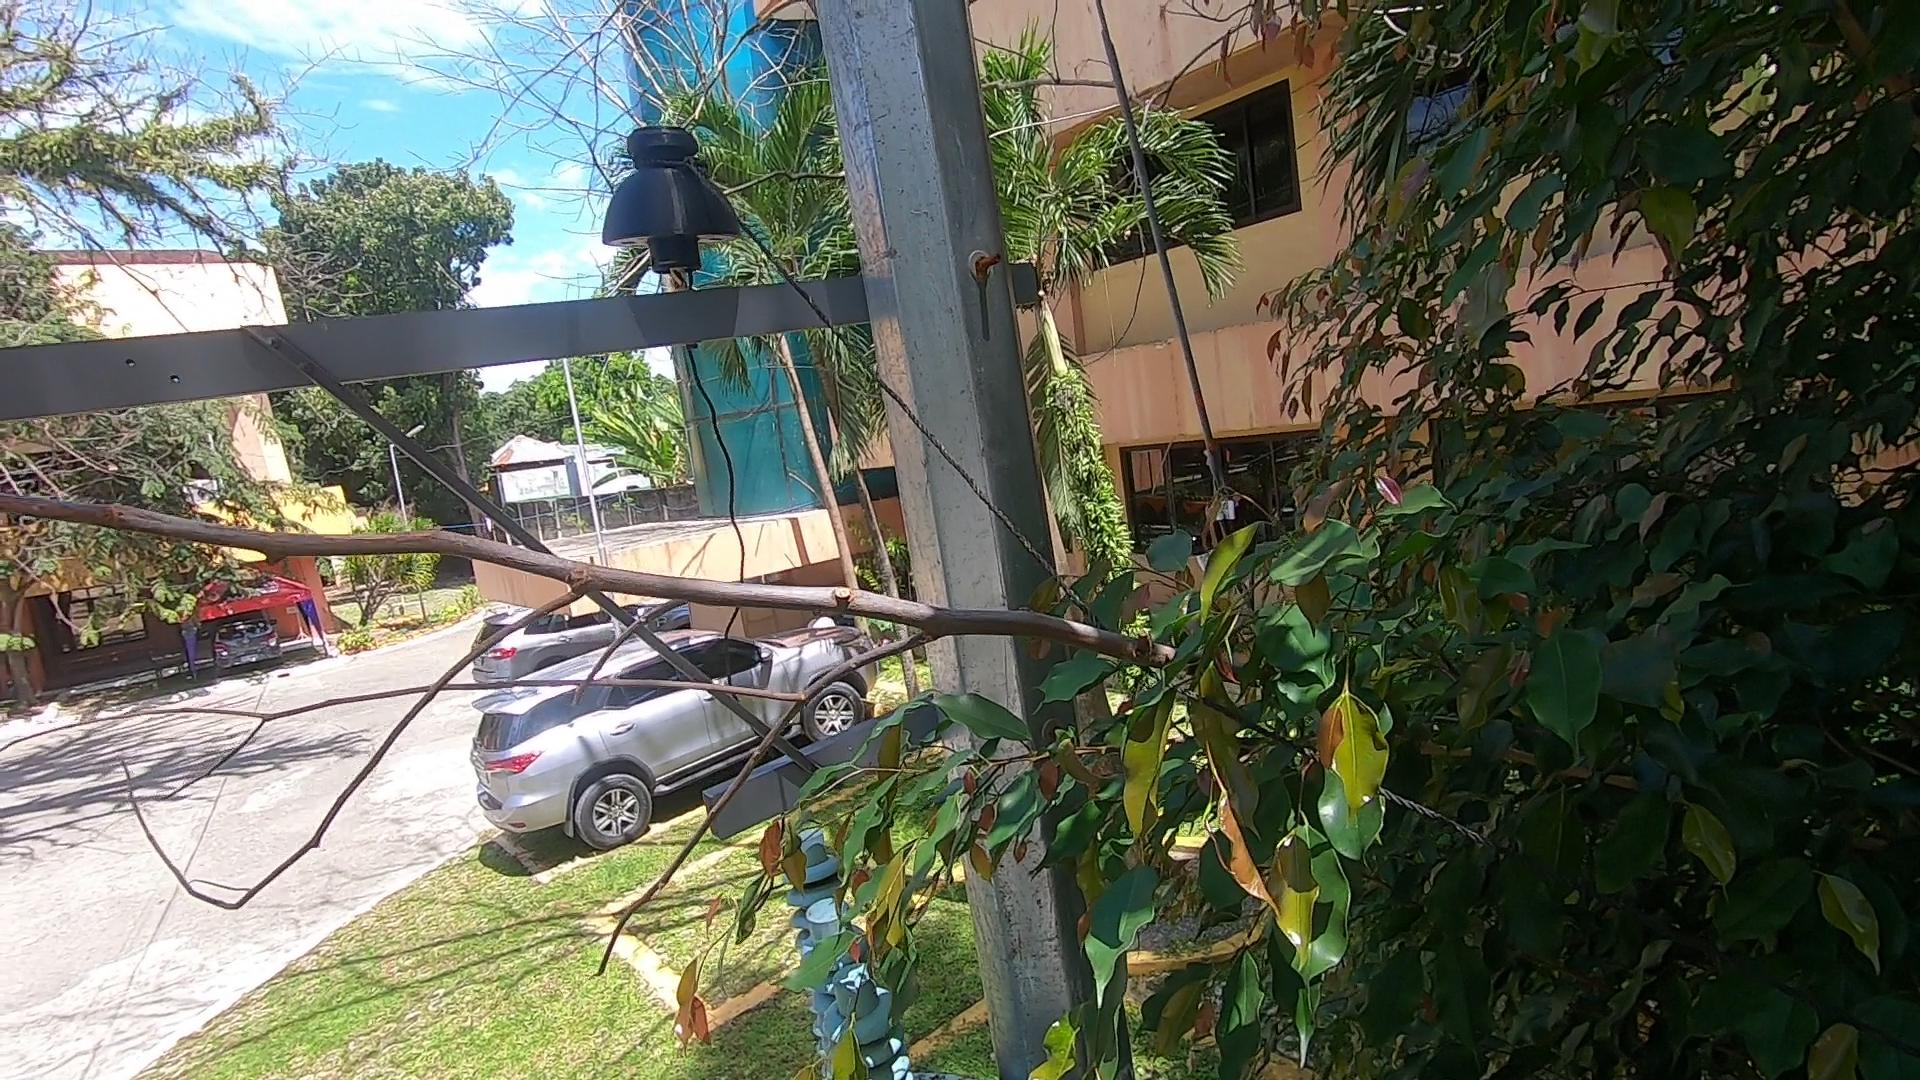tree branch: (1, 484, 1288, 992)
